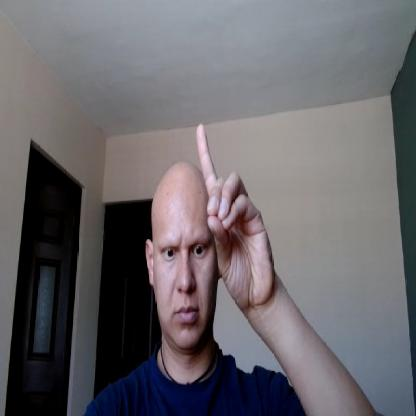D: (197, 122, 272, 306)
